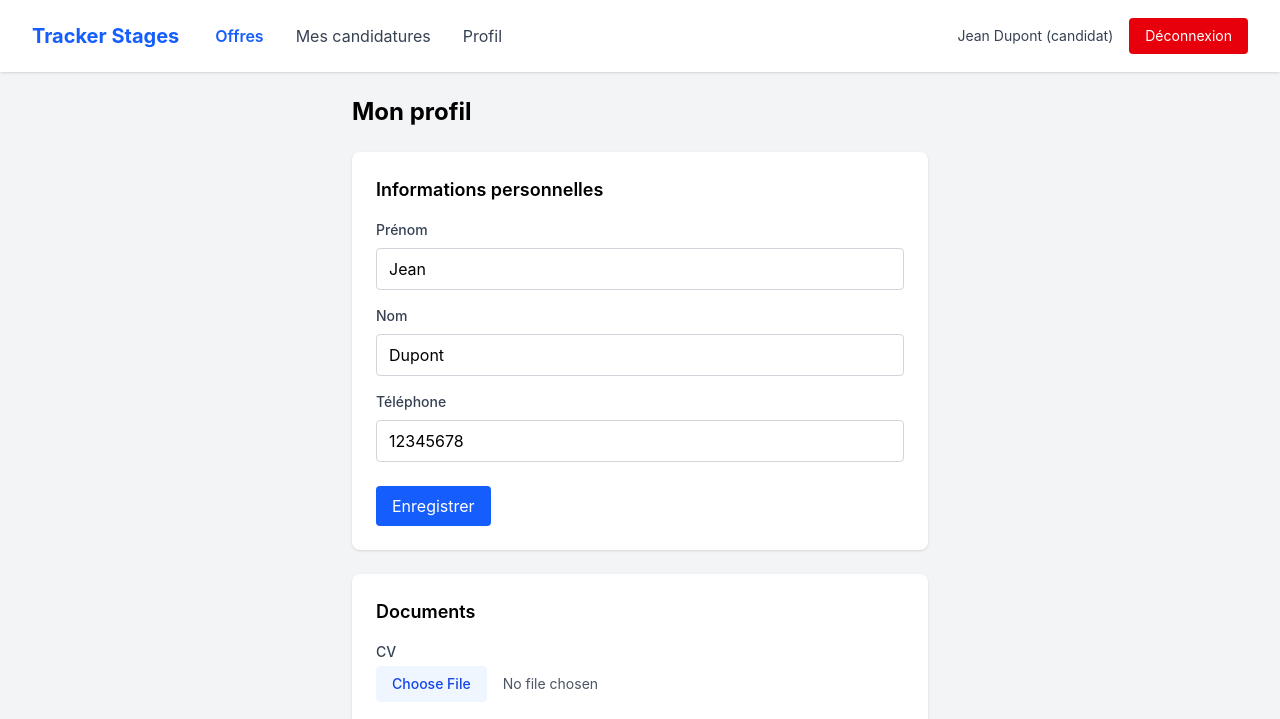
ProfilPage › sauvegarde les informations modifiées et affiche un message de succès
Replace the text in the field labelled "Prénom" with "Jean-Marc" at x=640, y=269, box [376, 248, 904, 290]
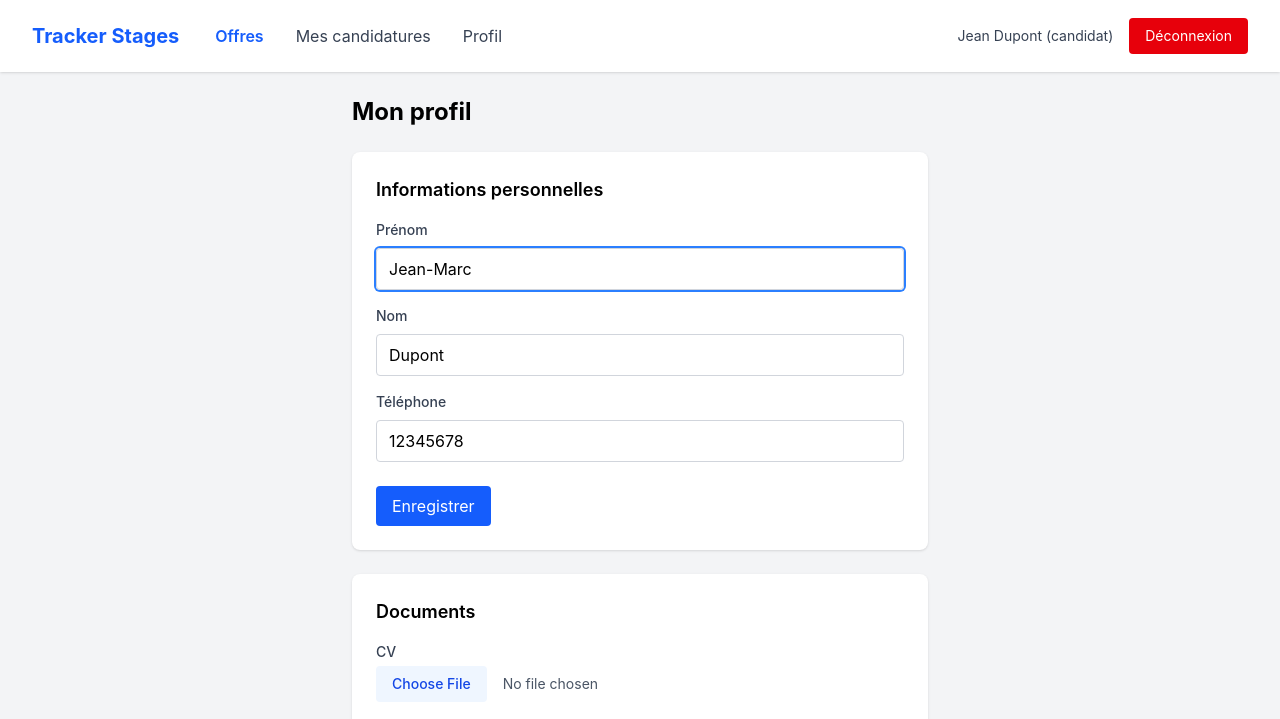
Click the button "Enregistrer" at x=433, y=506, box [376, 486, 491, 526]
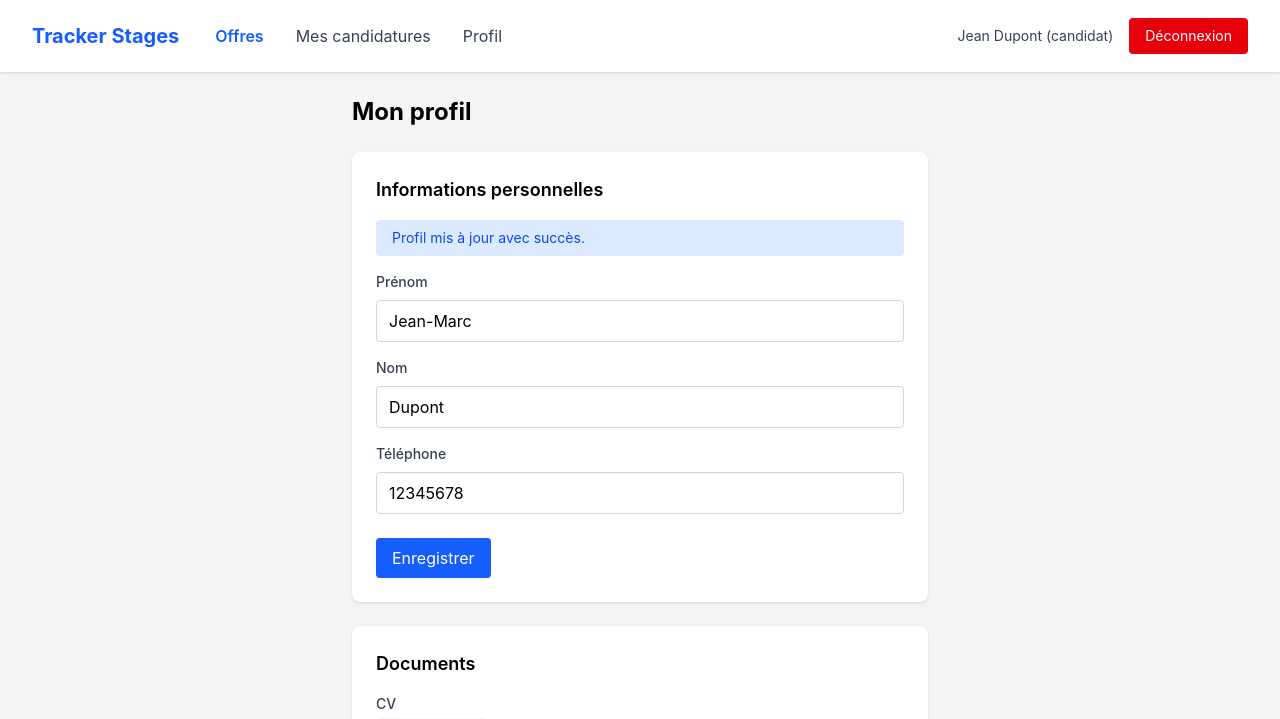
Expected: the text "Profil mis à jour avec succès." is shown, [376, 220, 904, 256]
